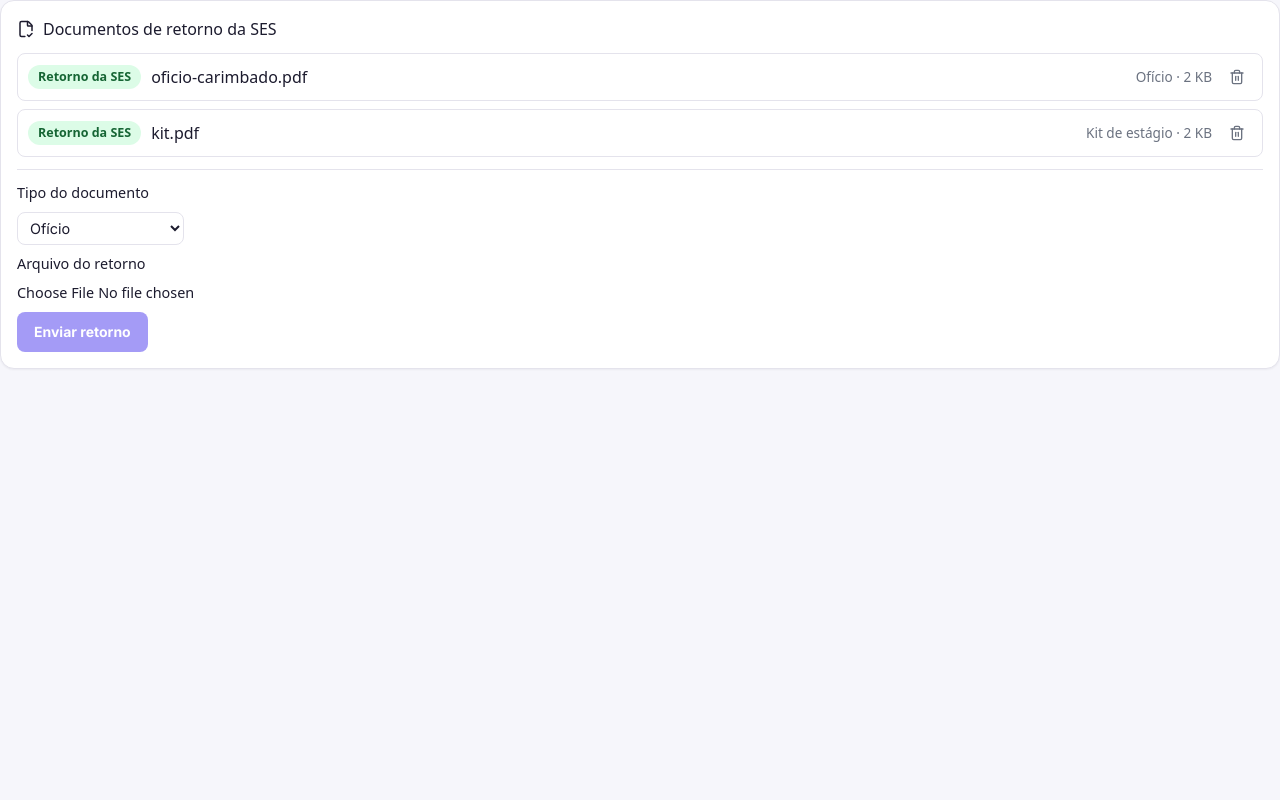
Test: RetornoSES › pede confirmação, remove e recarrega a lista
Click the button named "Excluir kit.pdf": [1237, 133] box [1222,118,1252,148]
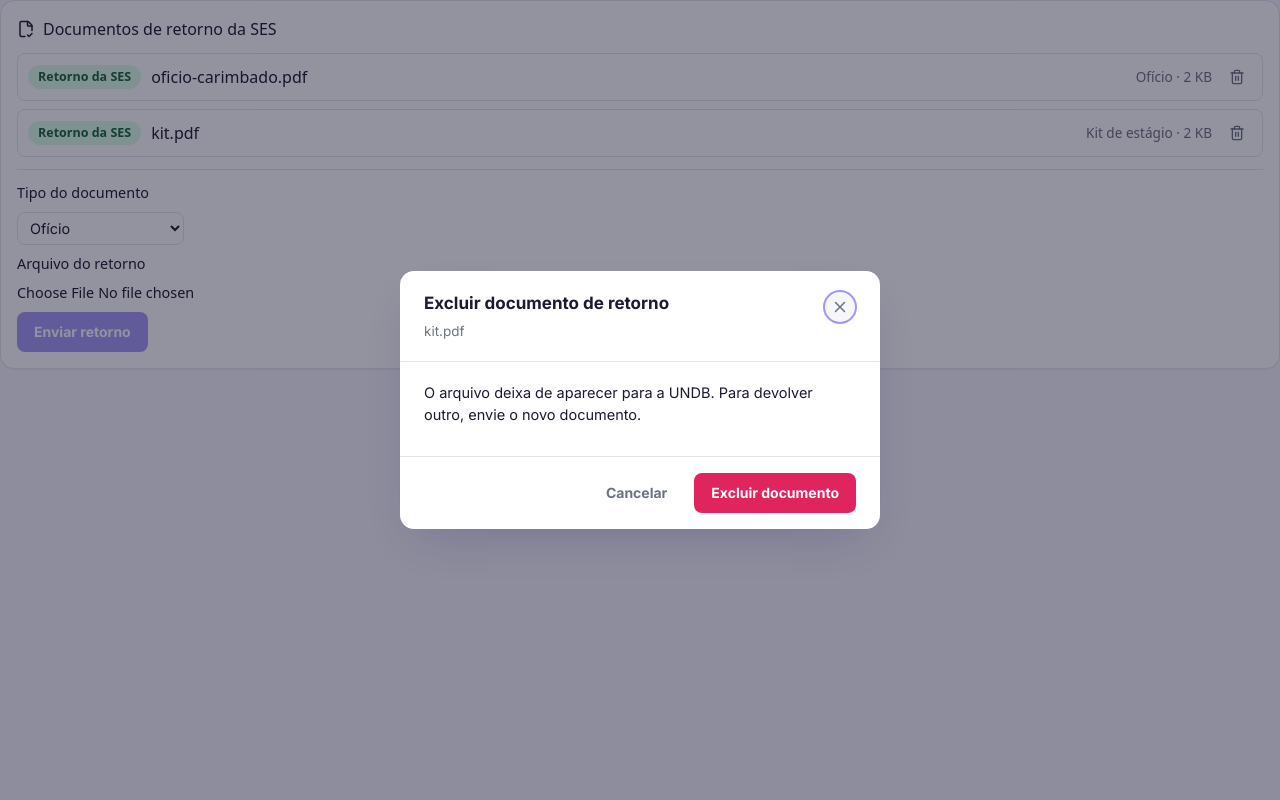
Click the button "Excluir documento": [775, 493] box [694,473,856,513]
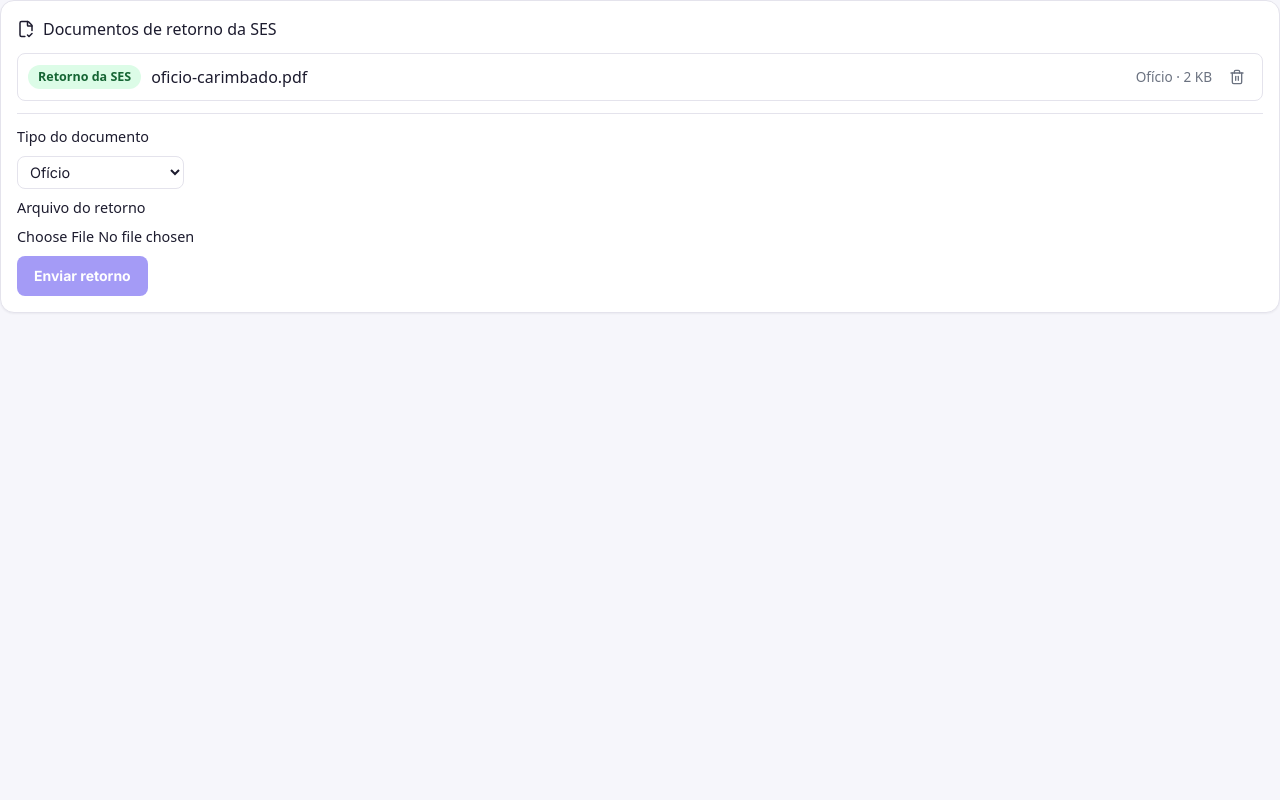
Now the text "kit.pdf" is gone
